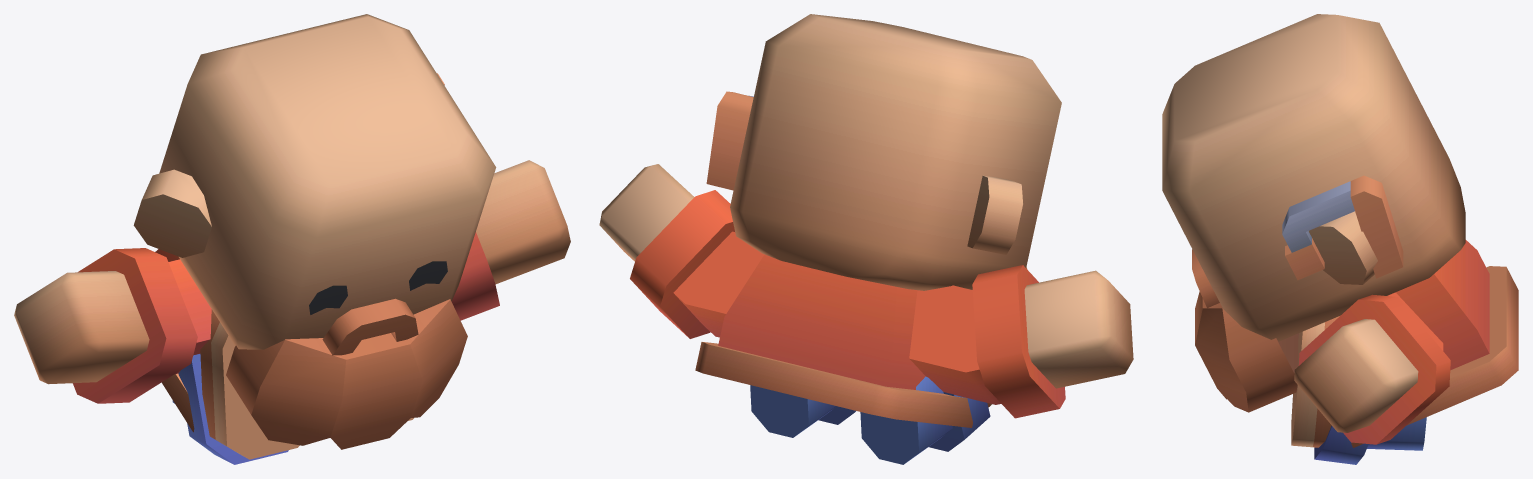
Rendered from people-male-b-crouch.glb.
The picture shows the model from 3 angles, left to right: view 1: azimuth 30°, elevation 25°; view 2: azimuth 150°, elevation 25°; view 3: azimuth 270°, elevation 25°; orthographic projection. The views are drawn at different scales.
Parts seen in each view (by area): view 1: character-male-b-crouch; view 2: character-male-b-crouch; view 3: character-male-b-crouch.
Part boxes in pixels (x1=…): character-male-b-crouch: x1=14, y1=14, x2=570, y2=464; character-male-b-crouch: x1=599, y1=14, x2=1133, y2=464; character-male-b-crouch: x1=1162, y1=14, x2=1518, y2=464.
Size of the model in its own units: 0.7672 by 0.5659 by 0.4757.
1 material, 1 textured.
